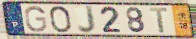2: (98, 6, 124, 35)
8: (125, 7, 146, 34)
G: (24, 6, 49, 33)
J: (77, 4, 97, 35)
O: (48, 5, 73, 34)
T: (149, 7, 169, 34)
